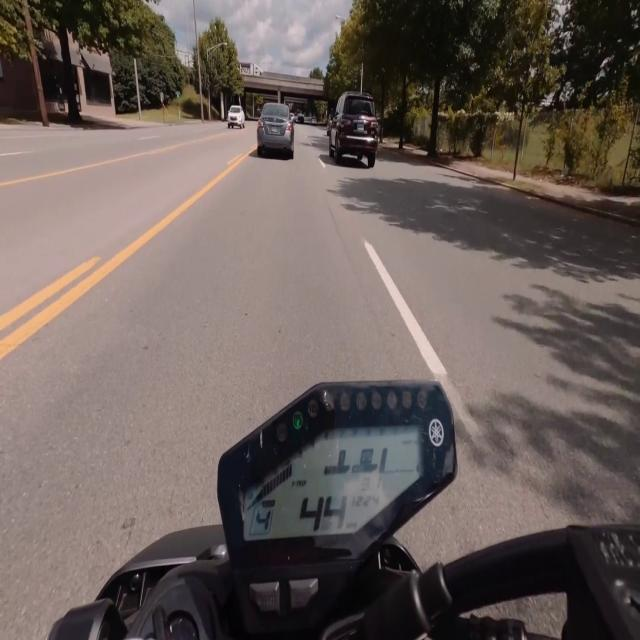car: (329, 92, 377, 167), (257, 103, 294, 158), (228, 105, 245, 128)
motorcycle: (48, 382, 639, 639)
